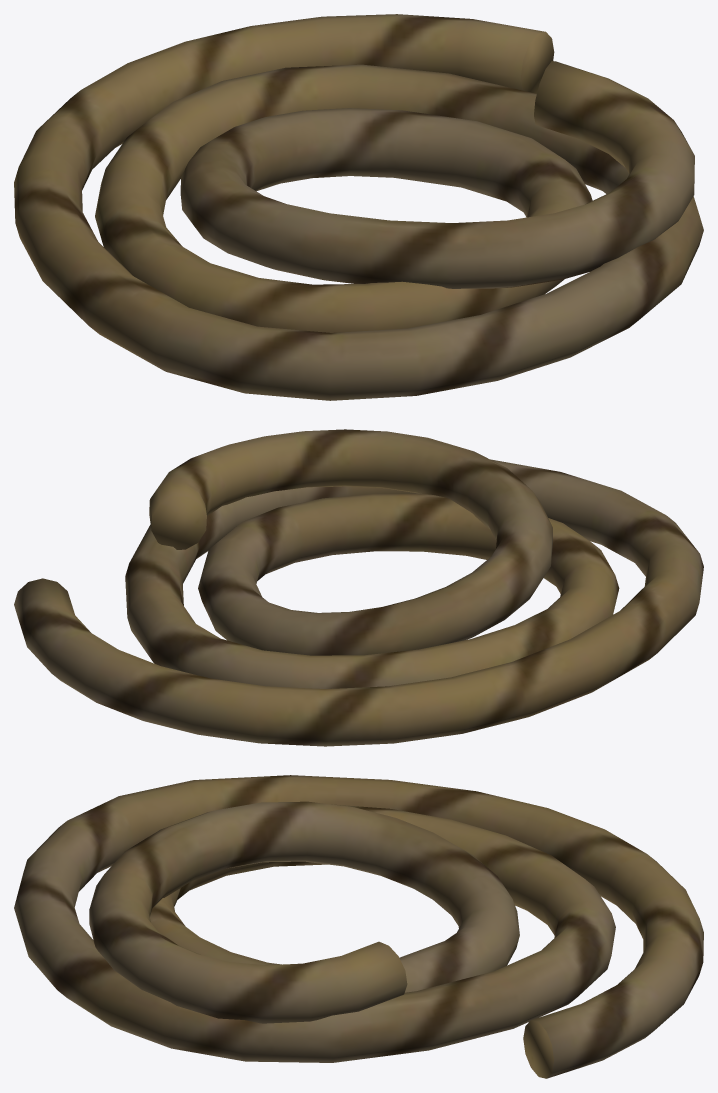
The model's file is rope_coil.glb.
The picture shows the model from 3 angles, top to bottom: view 1: azimuth 30°, elevation 25°; view 2: azimuth 150°, elevation 25°; view 3: azimuth 270°, elevation 25°; orthographic projection. The views are drawn at different scales.
Visible parts, largest first — view 1: Rope_1; view 2: Rope_1; view 3: Rope_1.
Part boxes in pixels (<box>): Rope_1: <box>14,14,703,400</box>; Rope_1: <box>14,429,703,746</box>; Rope_1: <box>14,775,703,1078</box>.
Bounding box in the file's own units: 0.5574 × 0.0978 × 0.6063.
1 material, 1 textured.
